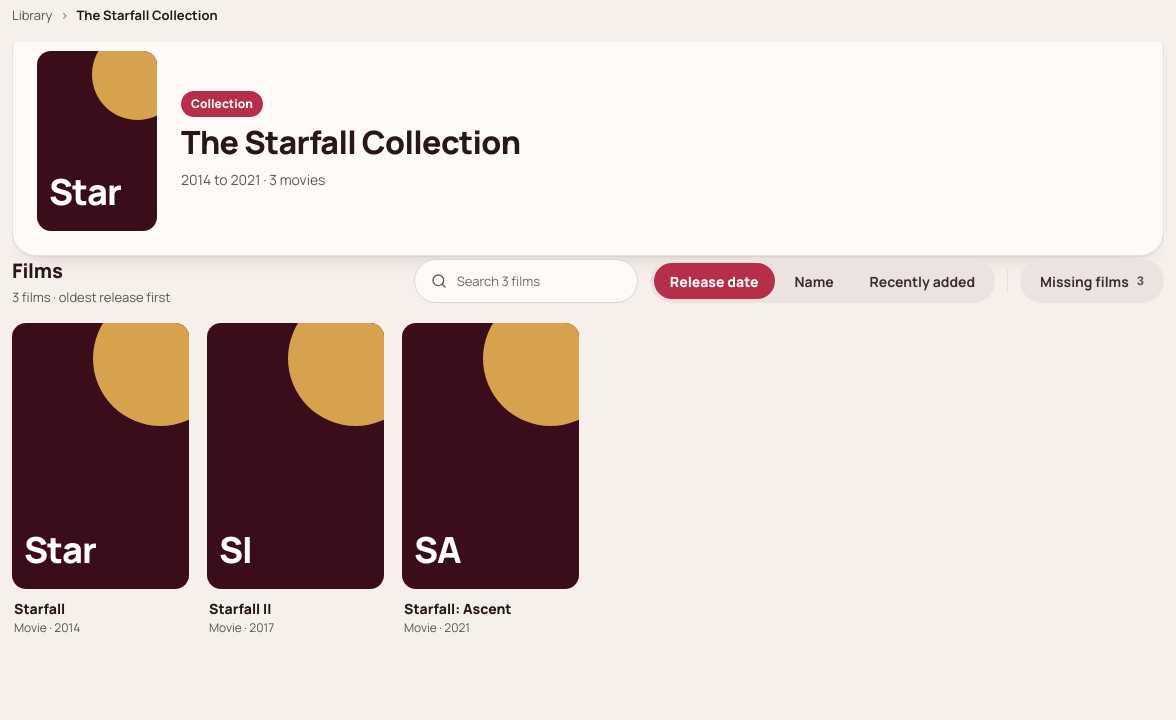
FranchisePage › puts in the films the library has none of, in their places, when asked
The image size is (1176, 720).
Expected: the text "Not in library" is not shown
Click the button "Missing films 3" at (1092, 281), box x1=1024 y1=263 x2=1160 y2=299
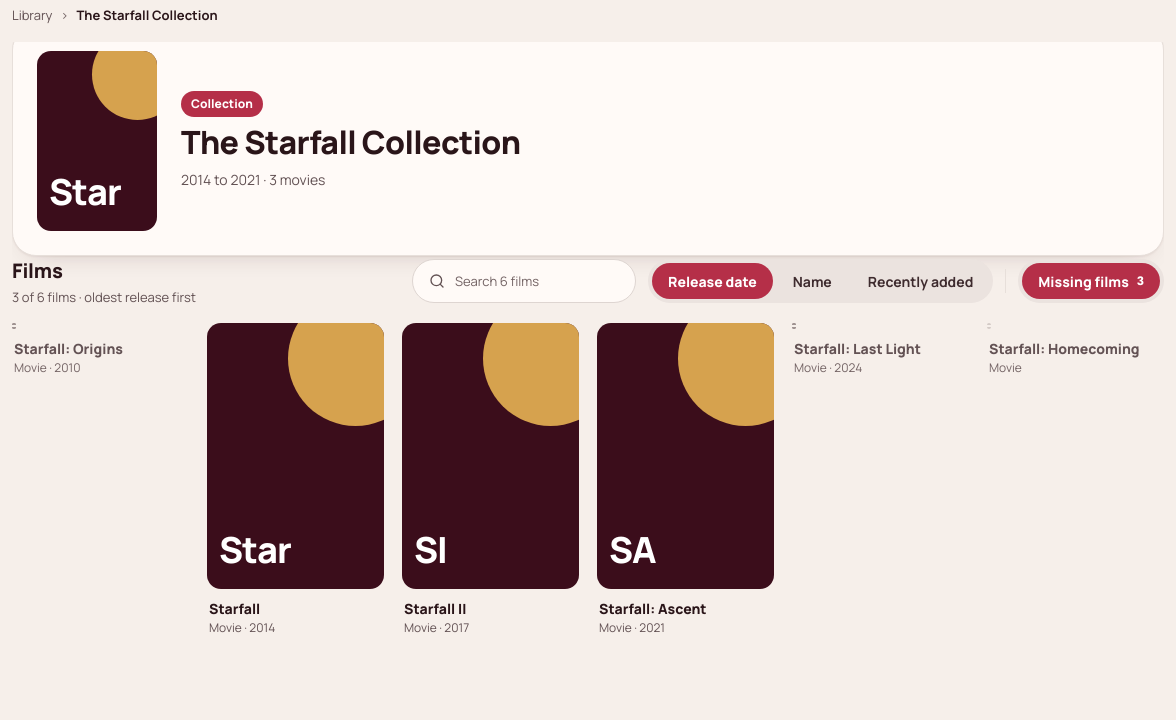
Result: the text "3 of 6 films · oldest release first" is shown at x1=12 y1=288 x2=196 y2=307
Click the button "Missing films 3" at (1091, 281), box x1=1022 y1=263 x2=1160 y2=299
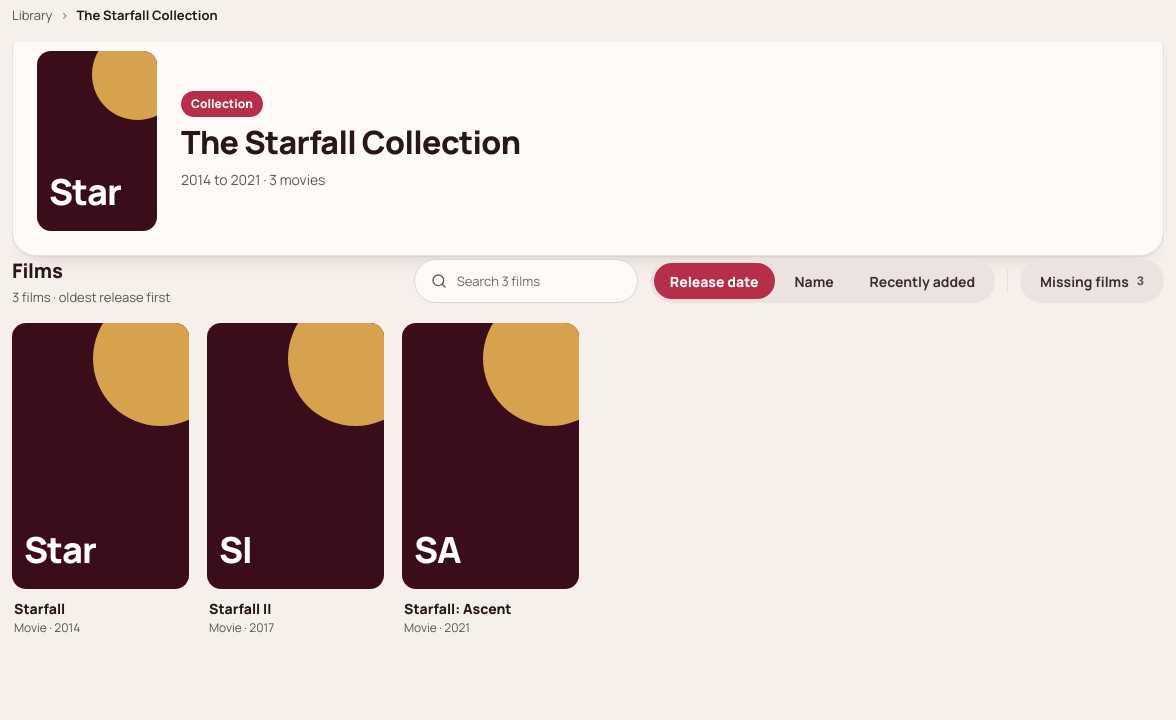
Expected: the text "Not in library" is not shown
Result: the text "3 films · oldest release first" is shown at x1=12 y1=288 x2=170 y2=307
